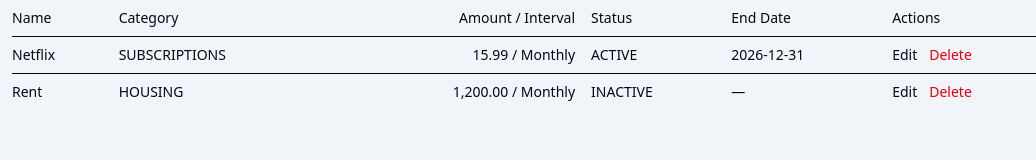
Test: ContractTable – inline delete confirmation › reverts to normal row state after clicking Cancel
Click the button "Delete" in the row of "Netflix". click: [950, 55]
box: [929,45,972,65]
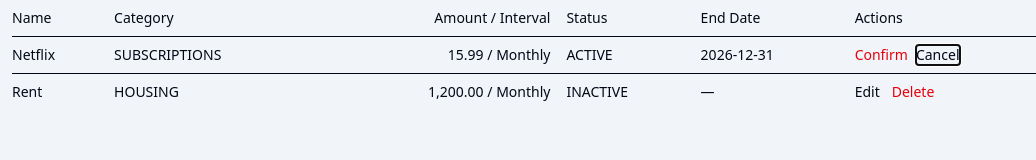
Click the button "Cancel". click: [938, 55]
box: [916,45,960,65]
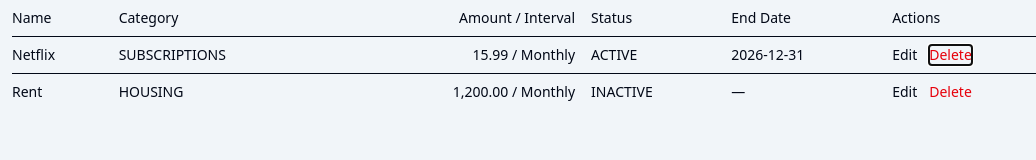
Expected: the button "Confirm" is gone
